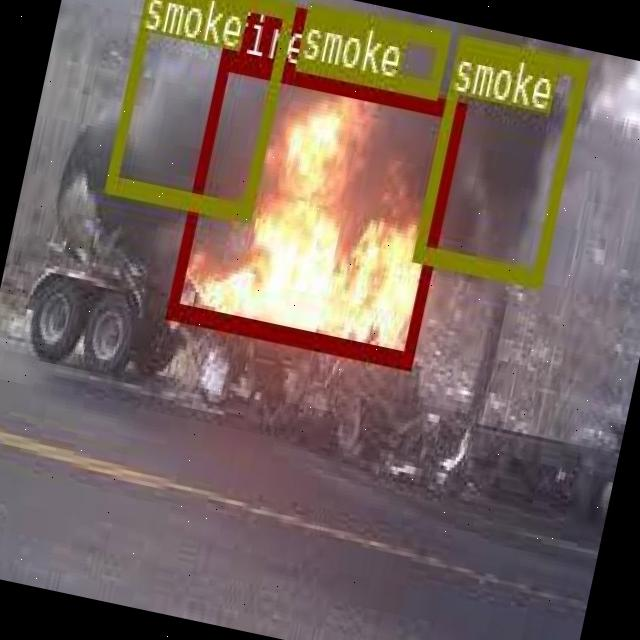fire: (164, 48, 465, 366)
smoke: (412, 30, 588, 284), (104, 0, 294, 217), (294, 0, 449, 94)
